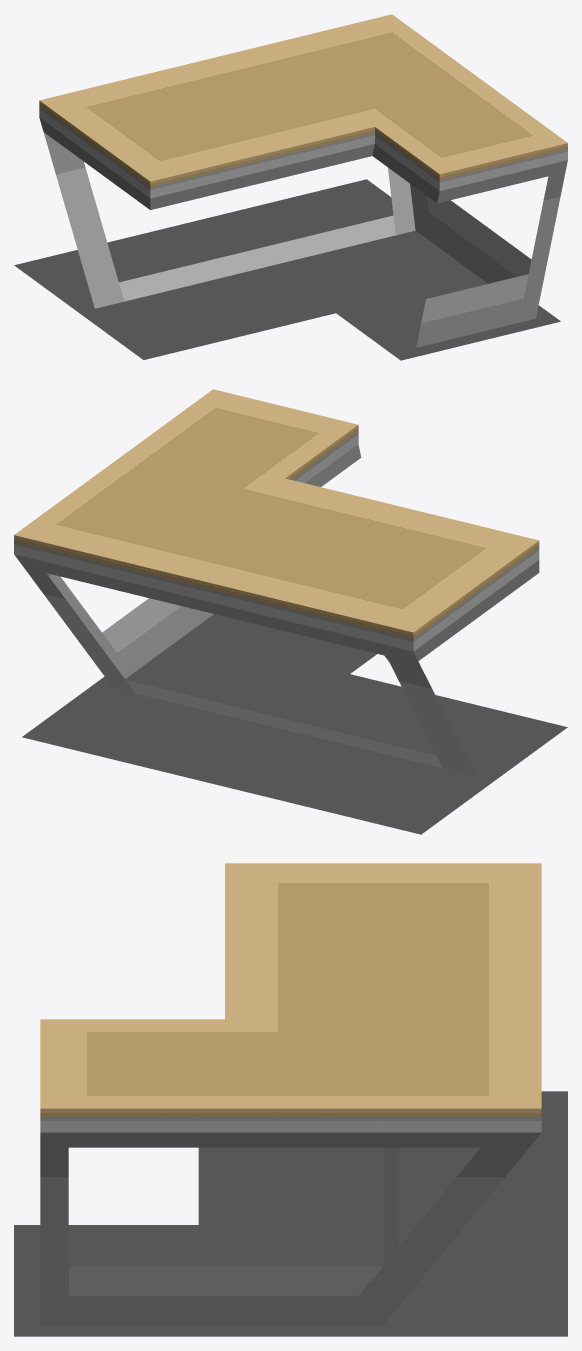
The picture shows the model from 3 angles, top to bottom: view 1: azimuth 30°, elevation 25°; view 2: azimuth 150°, elevation 25°; view 3: azimuth 270°, elevation 25°; orthographic projection. The views are drawn at different scales.
Parts seen in each view (by area): view 1: polygon0; view 2: polygon0; view 3: polygon0.
Part boxes in pixels (x1,y1,x2,y2): polygon0: (14, 14, 567, 360); polygon0: (14, 389, 567, 834); polygon0: (14, 863, 567, 1336).
Bounding box in the file's own units: 11.5 × 5 × 10.5.
1 material, 1 textured.
